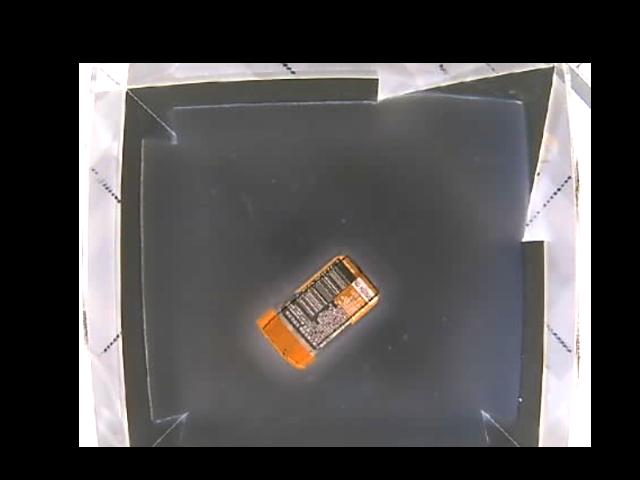Bottle: (257, 255, 379, 371)
